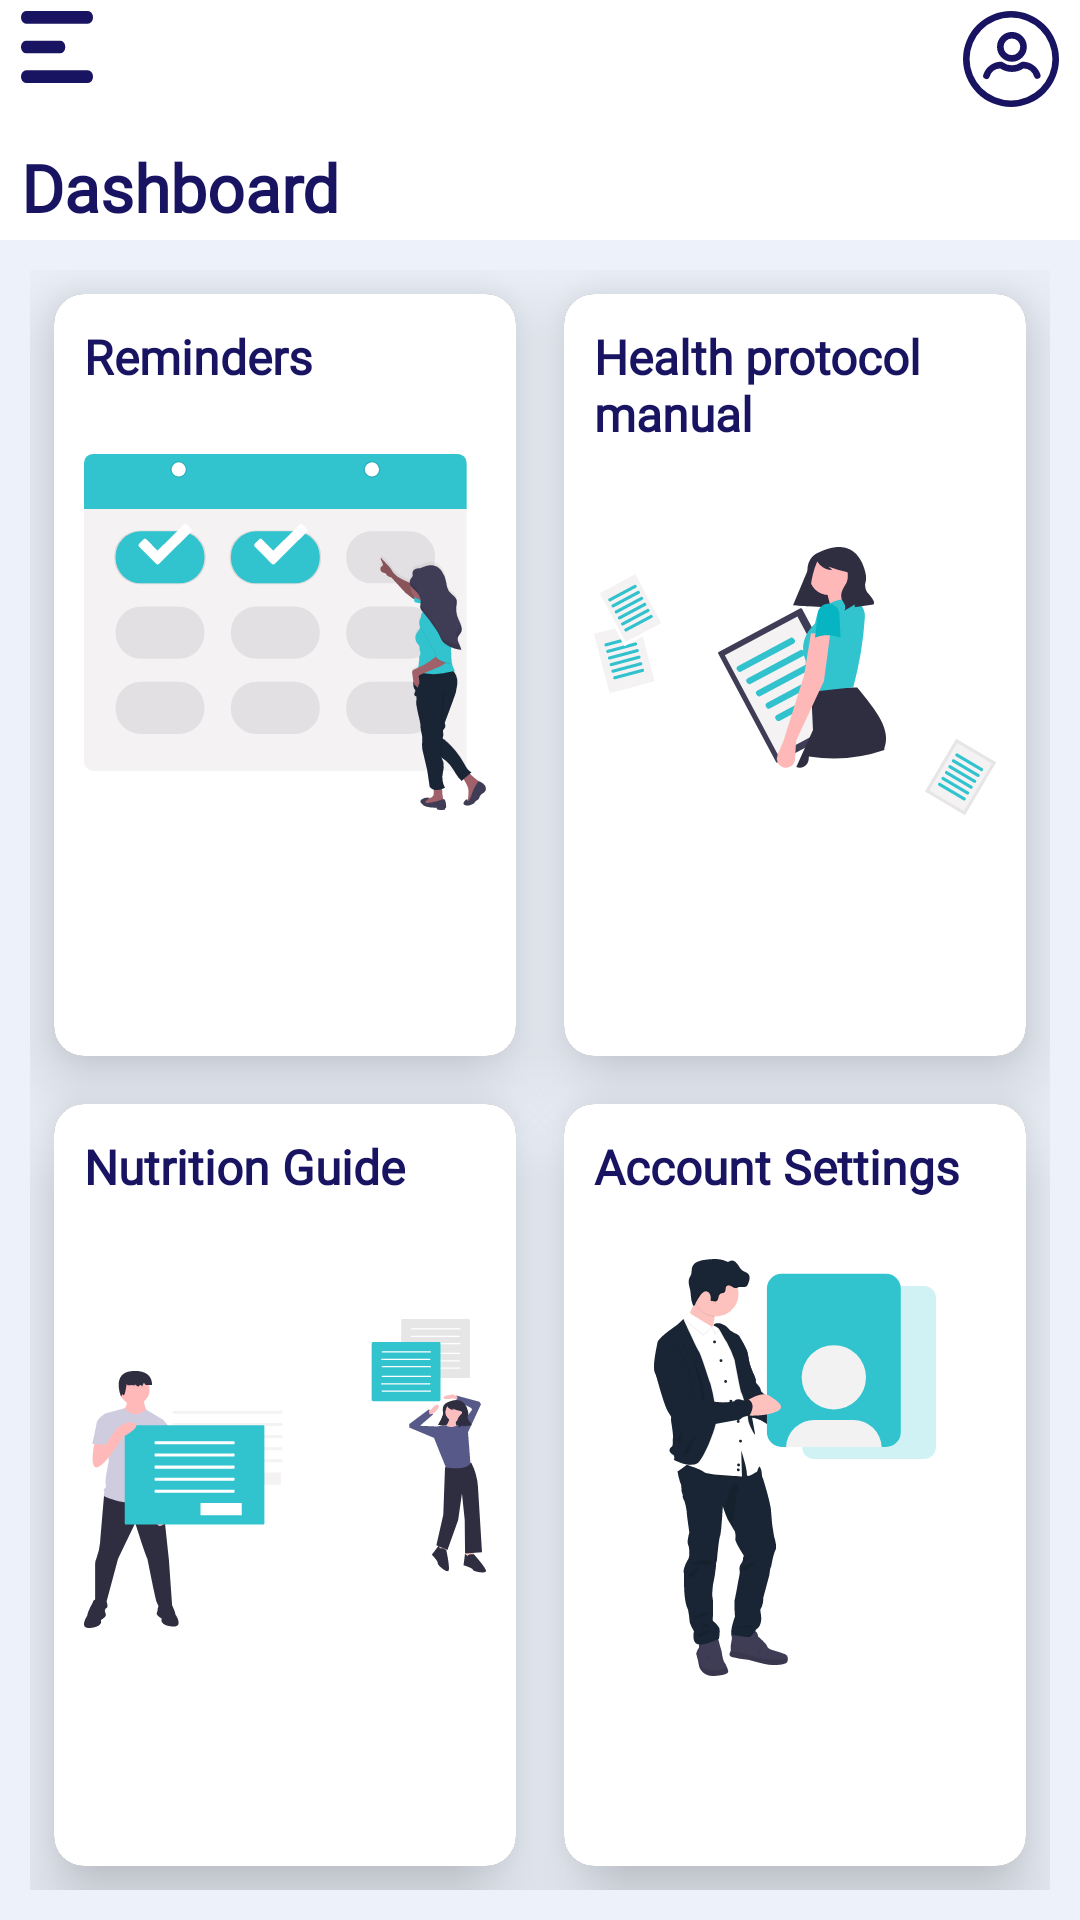

Point at icon controls on the screen. Image size 1080x1920, points as (x=x, y=y).
menu: (x=57, y=47)
